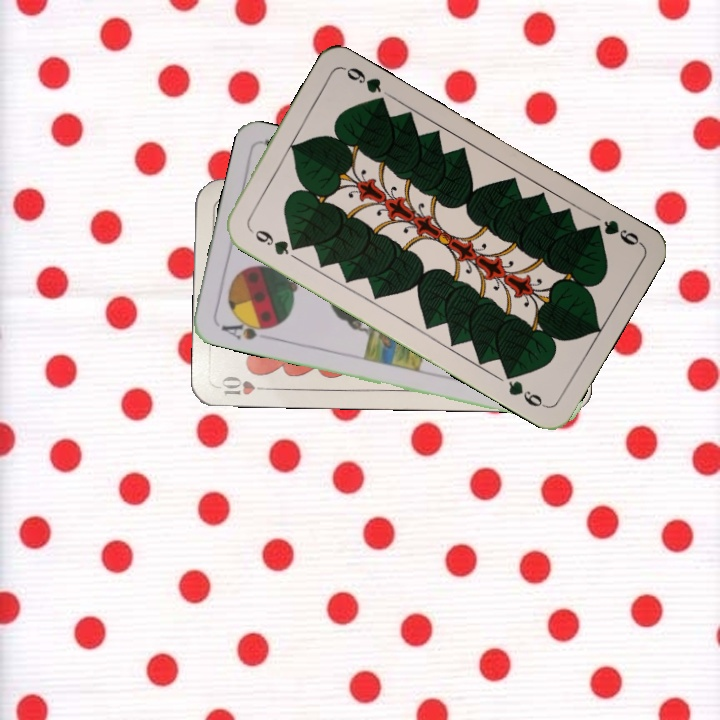G9: (245, 224, 302, 258), (585, 216, 644, 248)
H10: (218, 371, 275, 398)
SA: (217, 314, 276, 342)
